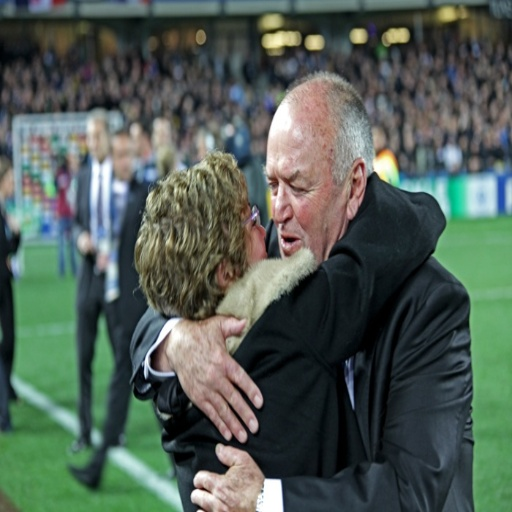hand: (157, 313, 266, 437), (187, 440, 266, 510), (75, 230, 92, 256), (92, 251, 108, 274)
